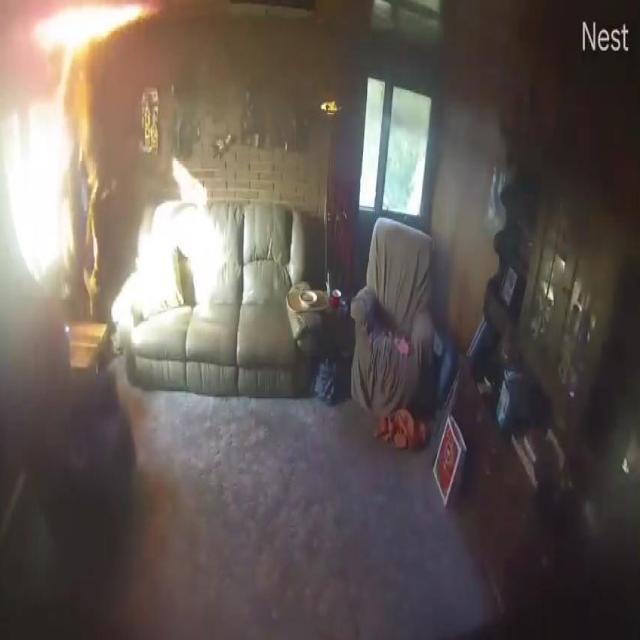smoke: (26, 0, 152, 65), (76, 72, 106, 318)
